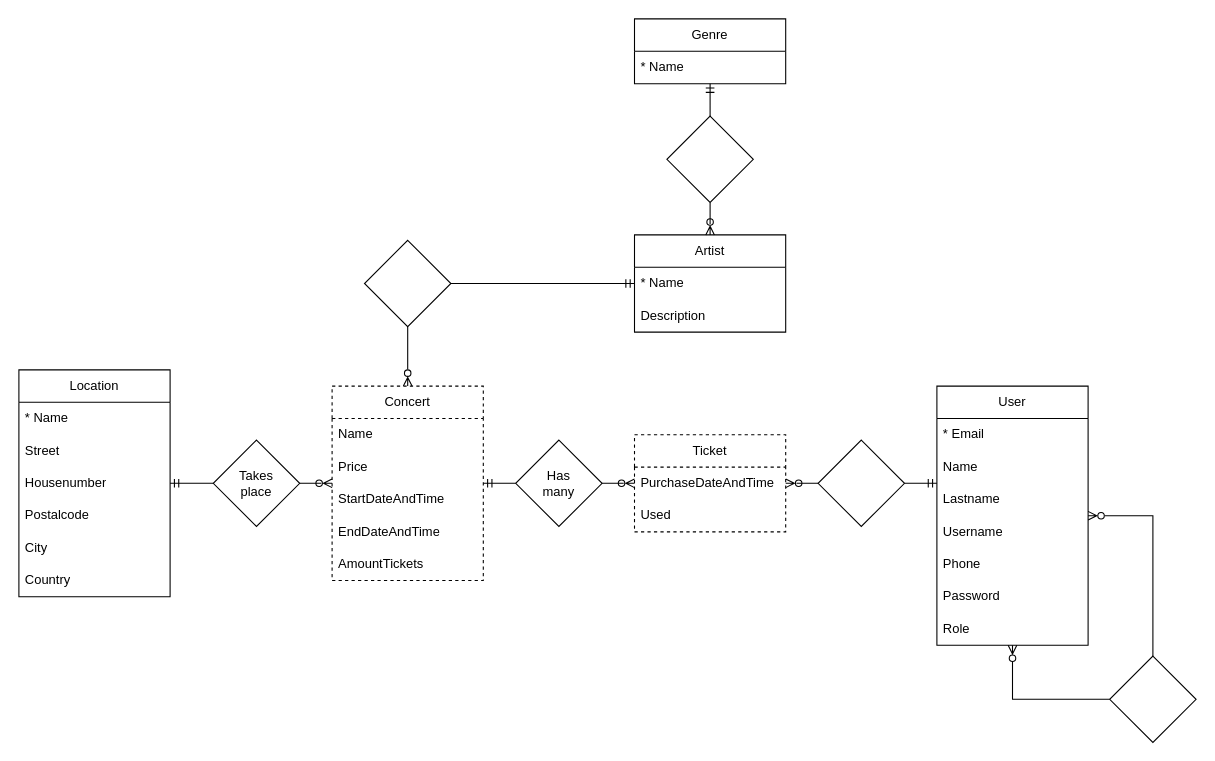
Some shapes in this 1215 by 761 pixel diagram are drawn without their labels. Each missing label, with the centre of its shape:
"Belongs to" goes at pixel 861 482.
"Has friends" goes at pixel 1152 698.
"Has one" goes at pixel 709 158.
"Performs on" goes at pixel 407 283.
